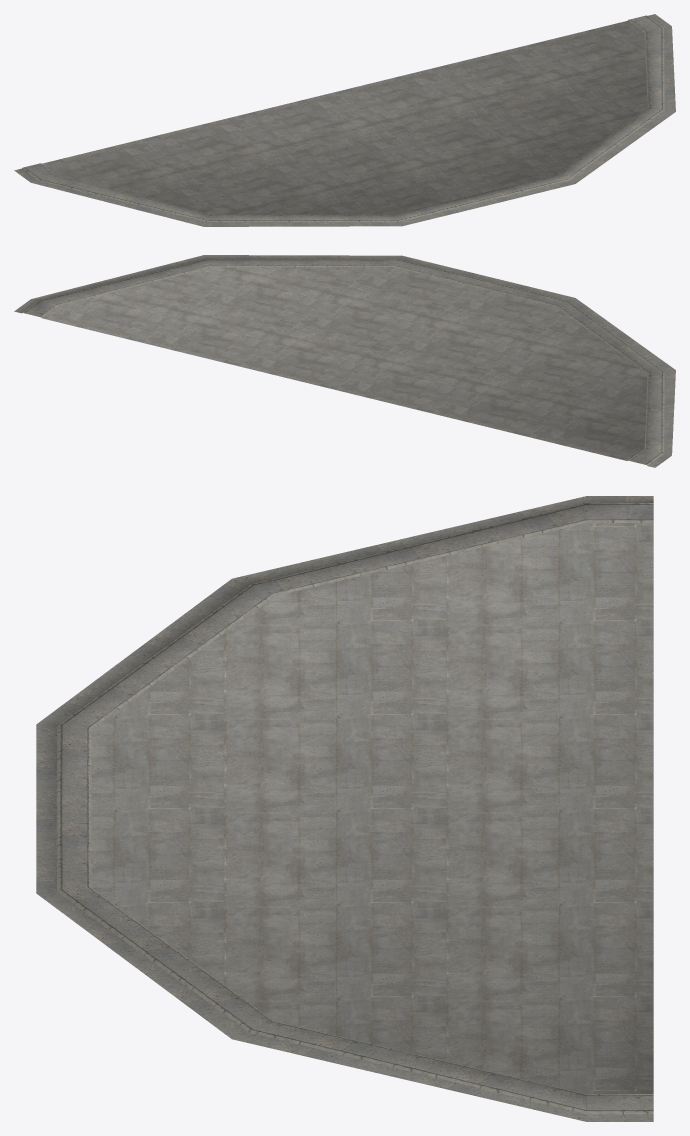
File: bg_lut_lucastle_mainfloor01_sm_jjy.FBX
3 renders of one model, top to bottom at view 1: azimuth 30°, elevation 25°; view 2: azimuth 150°, elevation 25°; view 3: azimuth 270°, elevation 25°, orthographic. The views are drawn at different scales.
Parts seen in each view (by area): view 1: bg_lut_lucastle_mainfloor01_sm_jjy; view 2: bg_lut_lucastle_mainfloor01_sm_jjy; view 3: bg_lut_lucastle_mainfloor01_sm_jjy.
Part boxes in pixels (left/top/right/bottom): bg_lut_lucastle_mainfloor01_sm_jjy: left=14, top=14, right=675, bottom=226; bg_lut_lucastle_mainfloor01_sm_jjy: left=14, top=255, right=675, bottom=467; bg_lut_lucastle_mainfloor01_sm_jjy: left=36, top=496, right=653, bottom=1121.
Size of the model in its own units: 3750 by 4 by 1563.
